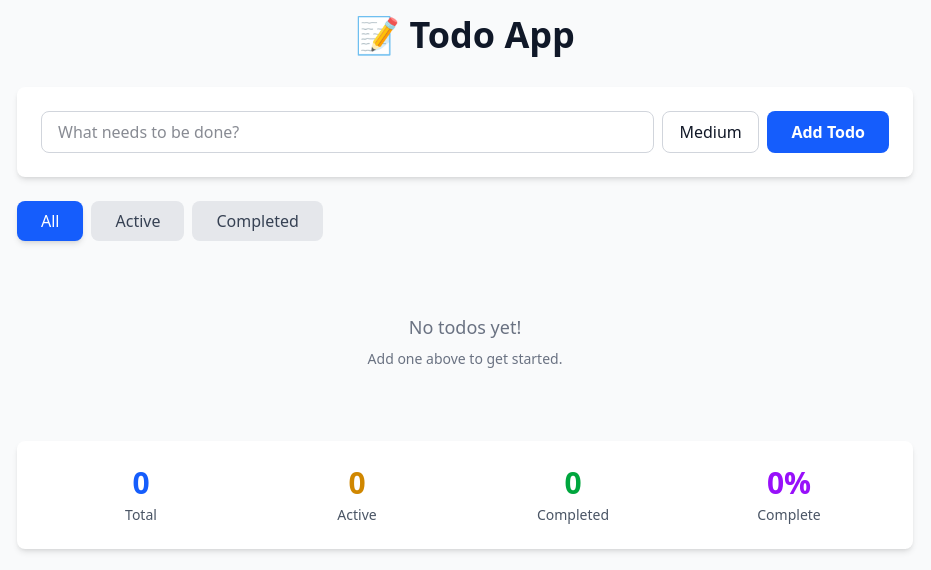
Scenario: Todo App - E2E Tests › Edit Workflows › can cancel edit by pressing Escape
The width and height of the screenshot is (931, 570).
Type "Original" into the field with placeholder "What needs to be done?" at (348, 132), box left=58, top=120, right=638, bottom=144
Then press Enter
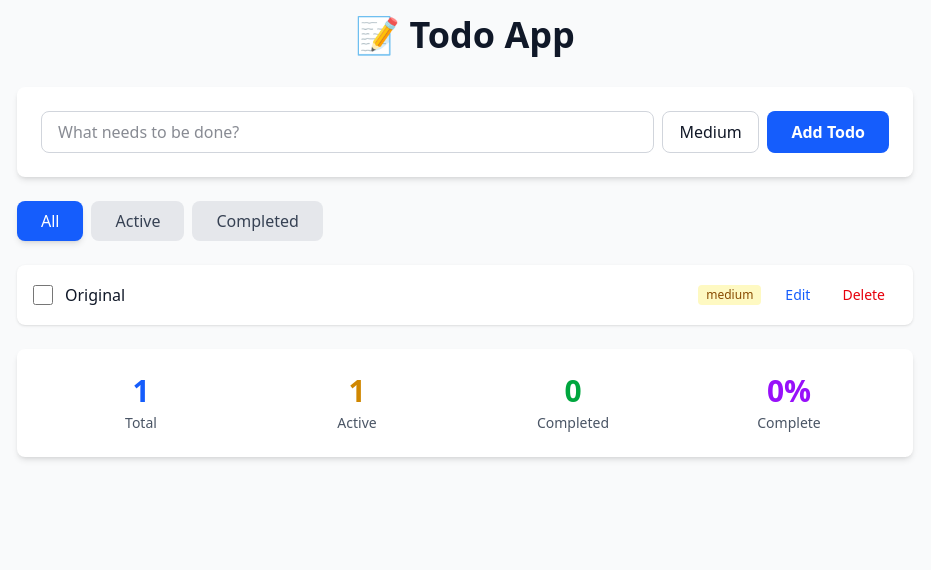
Click the button with test id "edit-button" at (798, 295), box left=773, top=281, right=822, bottom=309
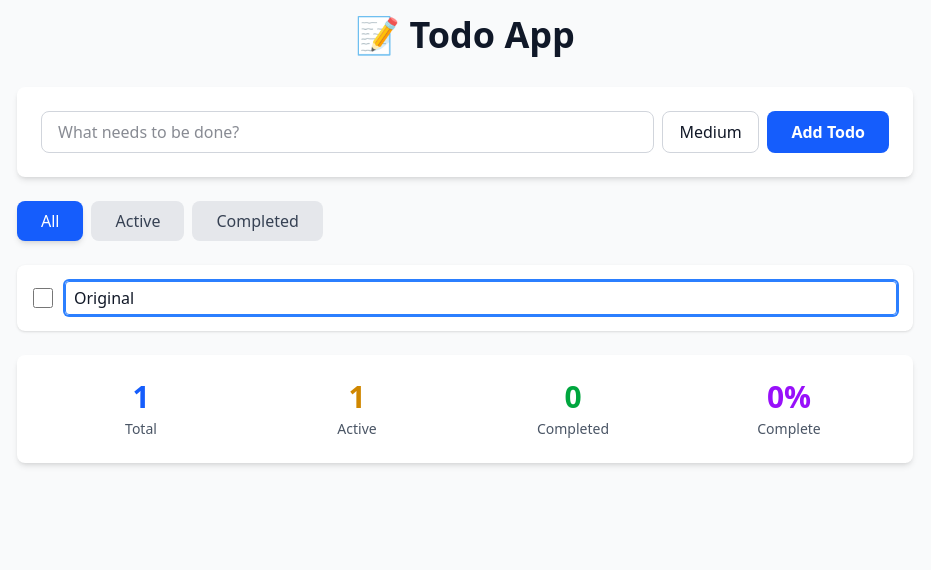
Replace the text in the field with test id "todo-edit-input" with "Changed but cancelled" at (481, 298), box left=65, top=281, right=897, bottom=315
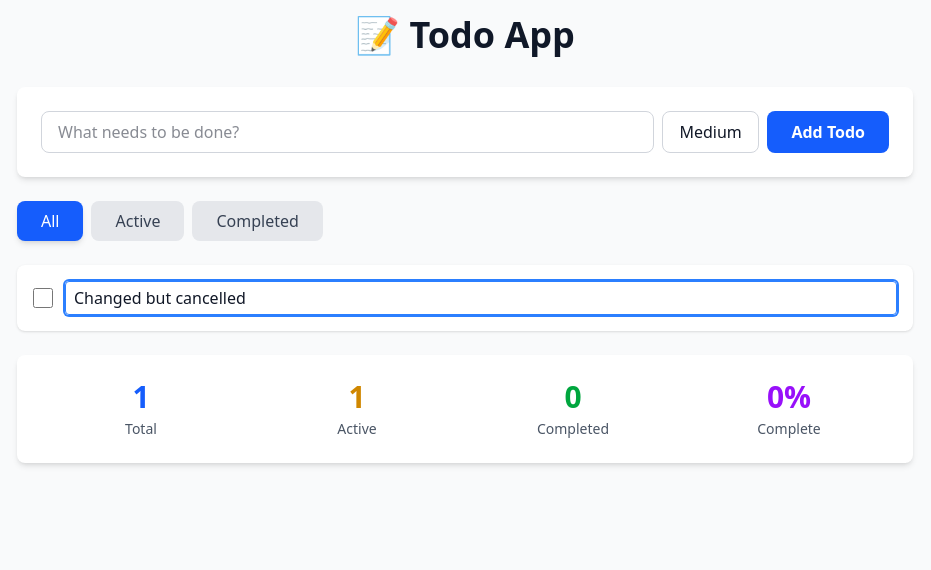
Press Esc in the field with test id "todo-edit-input", box left=65, top=281, right=897, bottom=315
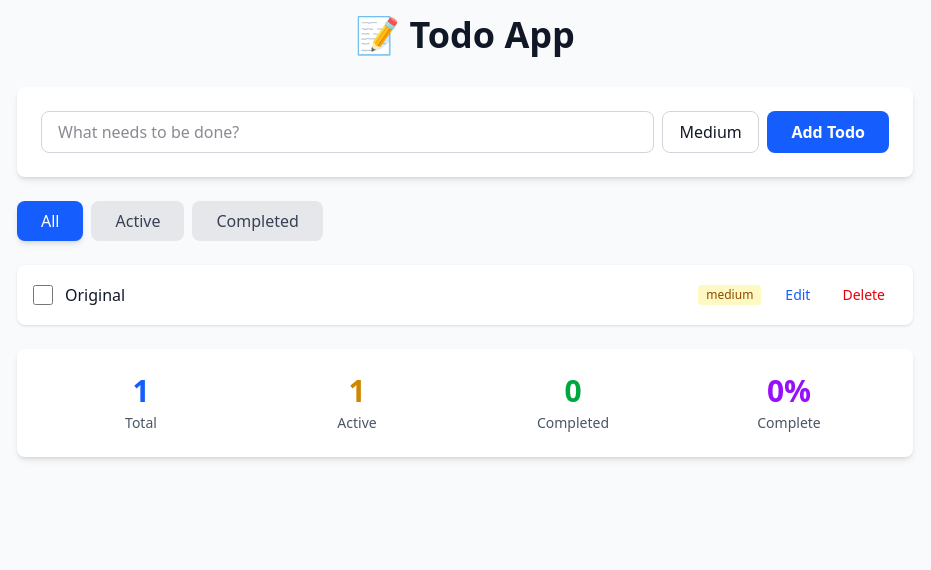
Expected: the text "Changed but cancelled" is not shown
Expected: the text "Original" is shown, left=65, top=284, right=125, bottom=306
